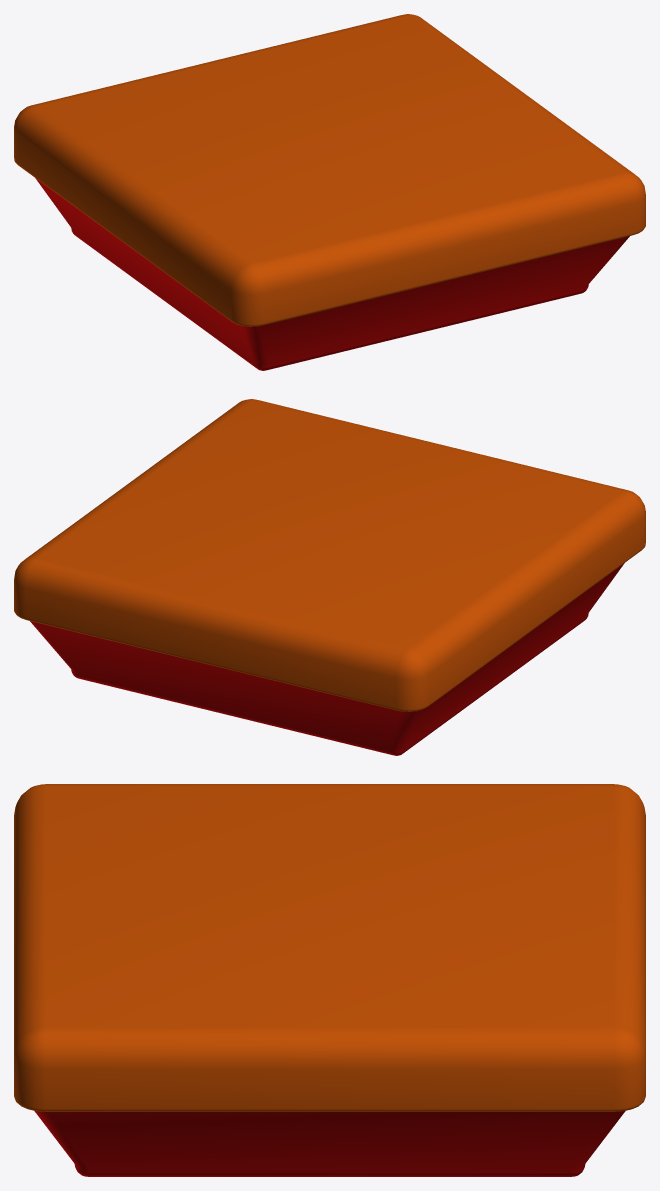
Rendered from basicSmall.fbx.
The picture shows the model from 3 angles, top to bottom: view 1: azimuth 30°, elevation 25°; view 2: azimuth 150°, elevation 25°; view 3: azimuth 270°, elevation 25°; orthographic projection. The views are drawn at different scales.
Visible parts, largest first — view 1: basicSmall; view 2: basicSmall; view 3: basicSmall.
Boxes of the visible parts, x1,y1,x2,y2 form: basicSmall: (14, 14, 645, 370); basicSmall: (14, 399, 645, 755); basicSmall: (14, 784, 645, 1176).
Size of the model in its own units: 1 by 0.2906 by 1.
